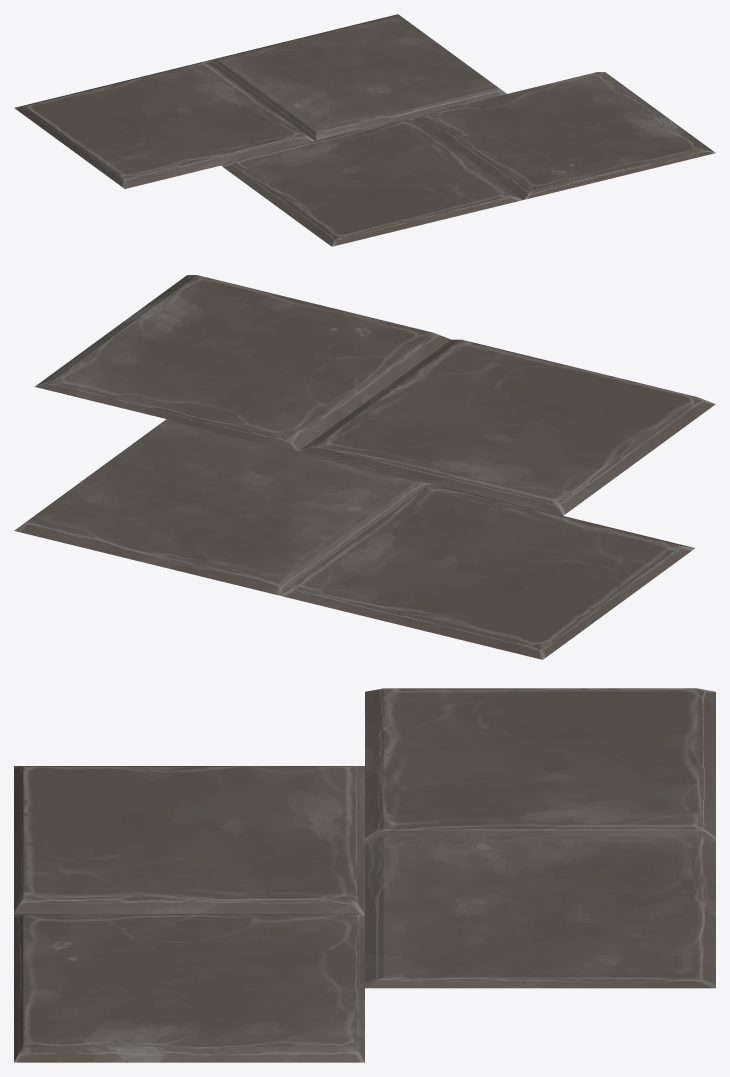
The model's file is Stone_Ceiling_Var4.fbx.
The picture shows the model from 3 angles, top to bottom: view 1: azimuth 30°, elevation 25°; view 2: azimuth 150°, elevation 25°; view 3: azimuth 270°, elevation 25°; orthographic projection. The views are drawn at different scales.
Parts seen in each view (by area): view 1: StoneTile_Row3_Col2__21_; view 2: StoneTile_Row3_Col2__21_; view 3: StoneTile_Row3_Col2__21_.
Boxes of the visible parts, bbox=[...] form: StoneTile_Row3_Col2__21_: bbox=[14, 14, 715, 246]; StoneTile_Row3_Col2__21_: bbox=[14, 275, 715, 659]; StoneTile_Row3_Col2__21_: bbox=[14, 688, 715, 1062].
Bounding box in the file's own units: 2.5 × 0.0232 × 2.
